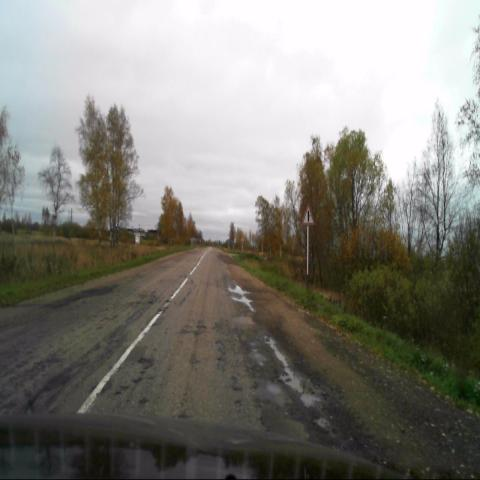2_3_2: (302, 204, 314, 225)
